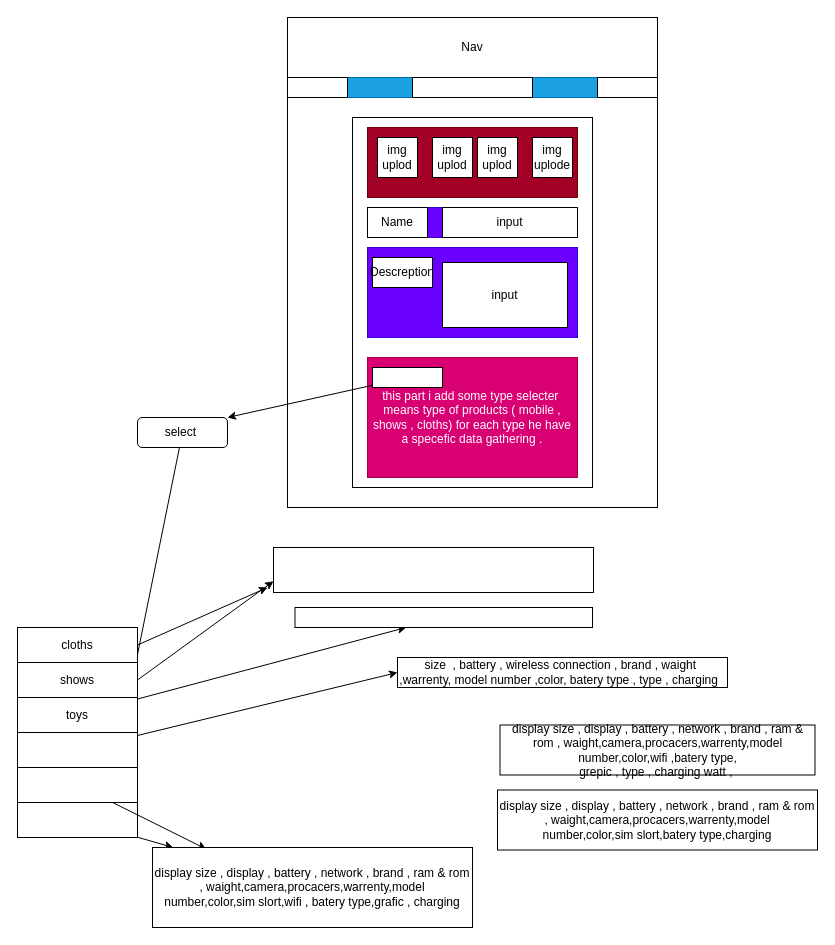
The diagram is 835 pixels wide and 945 high, and some of its shapes have lost their labels. Here are the shapes that lost their labels. From the top down, the centre of each, then its label:
the point at 472,87: Uplode
the point at 433,569: color,brand,size,faeric,desine,paterns,type,model , for whom ,waight
the point at 443,617: age , waight , charge , size , material , brand , type
the point at 77,750: gagets
the point at 77,784: laptop
the point at 77,820: mobile
